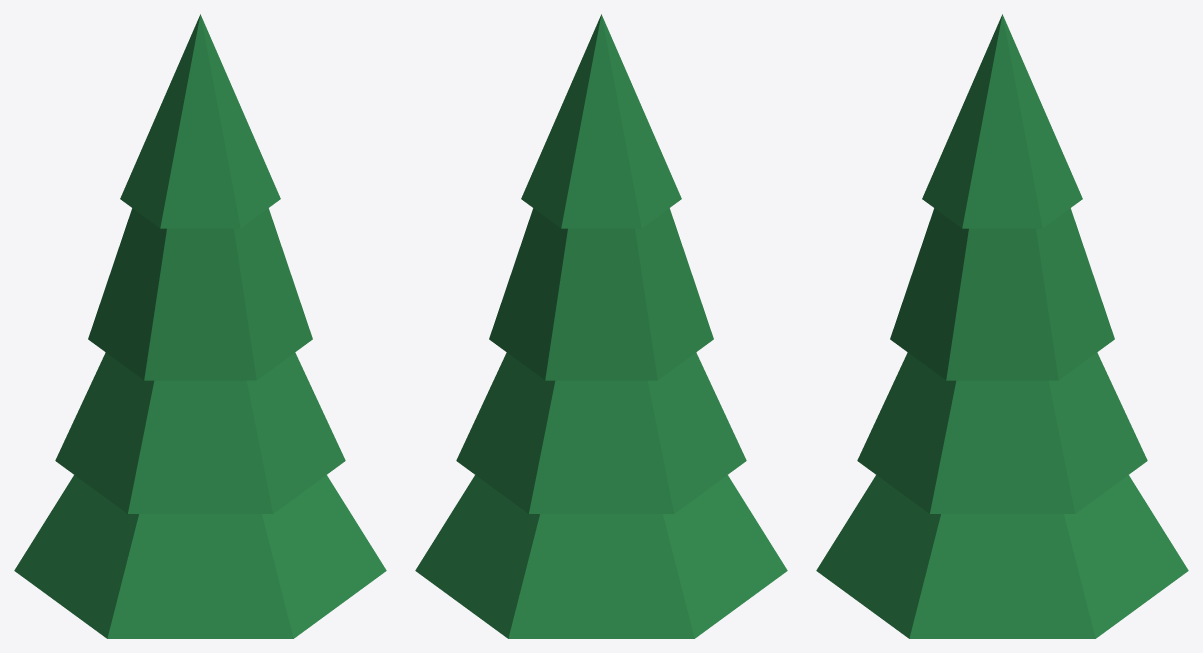
The model's file is pine-young.glb.
3 renders of one model, left to right at view 1: azimuth 30°, elevation 25°; view 2: azimuth 150°, elevation 25°; view 3: azimuth 270°, elevation 25°, orthographic.
Parts seen in each view (by area): view 1: tree_pineGroundA; view 2: tree_pineGroundA; view 3: tree_pineGroundA.
Part boxes in pixels (<box>): tree_pineGroundA: <box>14,14,386,638</box>; tree_pineGroundA: <box>415,14,787,638</box>; tree_pineGroundA: <box>816,14,1188,638</box>.
Size of the model in its own units: 1.92 by 3.66 by 2.22.
